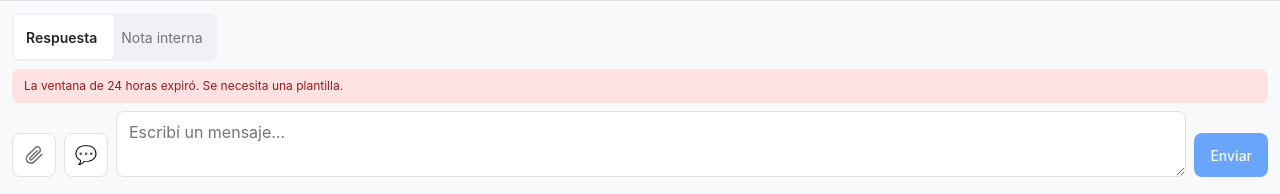
Test: Composer — COMPOSER-1 (422/503 sin crash) › un 422 MESSAGING_WINDOW_EXPIRED muestra un mensaje claro y el composer sigue operable
The width and height of the screenshot is (1280, 194).
Check: the message shows "ventana de 24 horas", box [24,78,343,93]
Type "Reintento" into the text box labelled "Escribí un mensaje…" at (651, 144), box [116,111,1186,177]
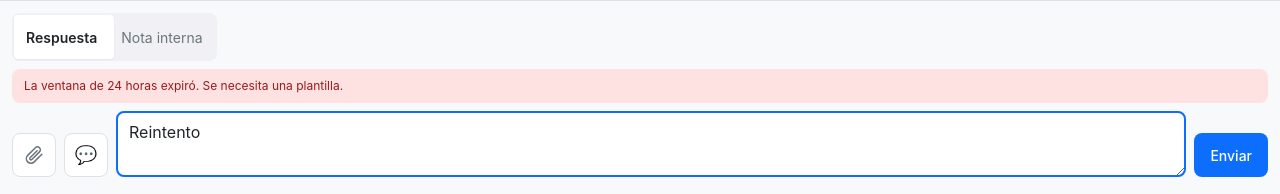
Check: the button "Enviar" is enabled, box [1194,133,1268,177]
